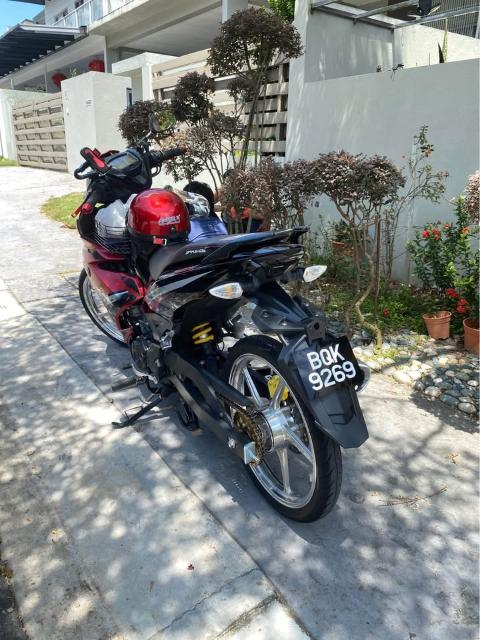License_Plate: (293, 334, 365, 400)
motorcycle: (72, 108, 372, 525)
